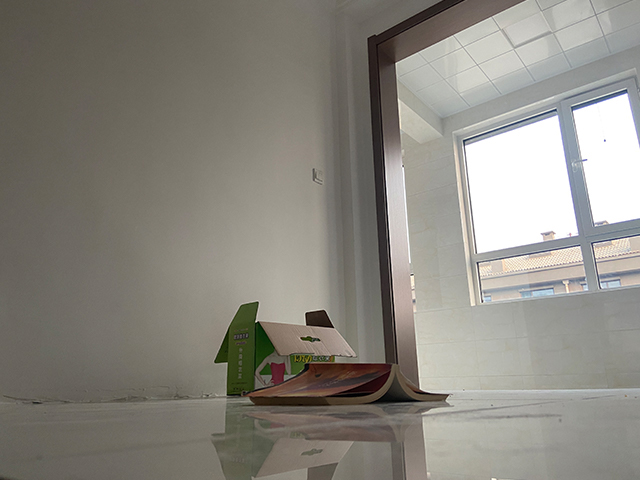book: (243, 360, 452, 407)
